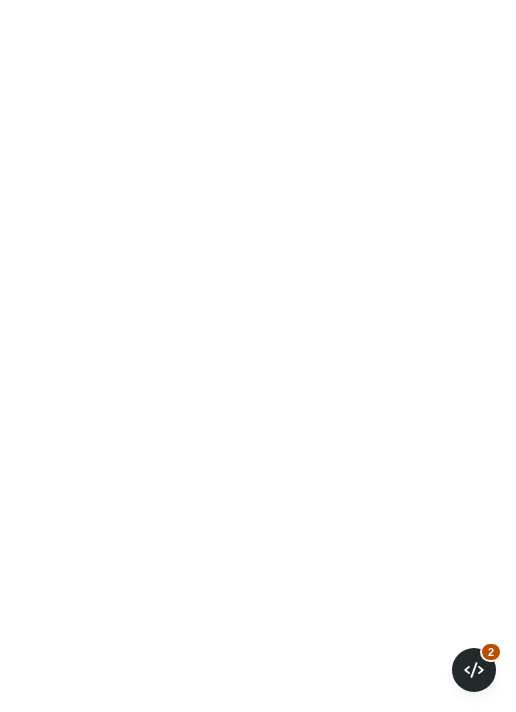
Developer tools › lists the requests with their queries
The width and height of the screenshot is (516, 712).
Click the button named "Developer tools". click: (474, 670)
box: [452, 648, 496, 692]
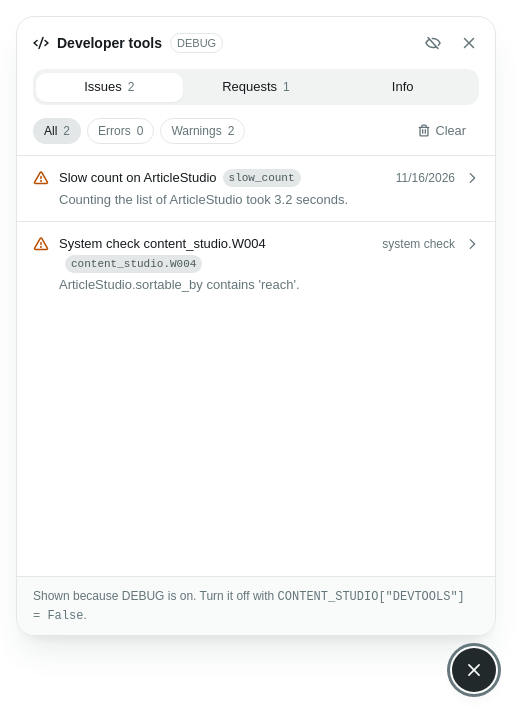
Click the tab "Requests 1". click: (256, 87)
box: [183, 72, 329, 102]
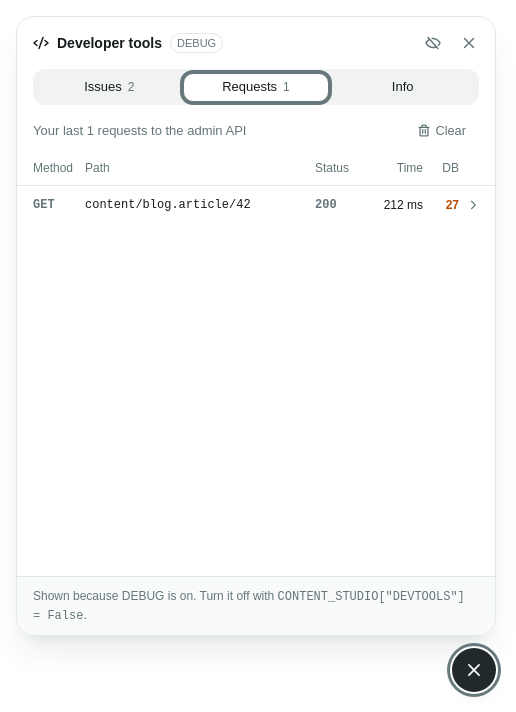
Click the button with aria-label "GET content/blog.article/42, 200, 212 ms, 27 queries". click: (168, 205)
box: [17, 186, 495, 224]
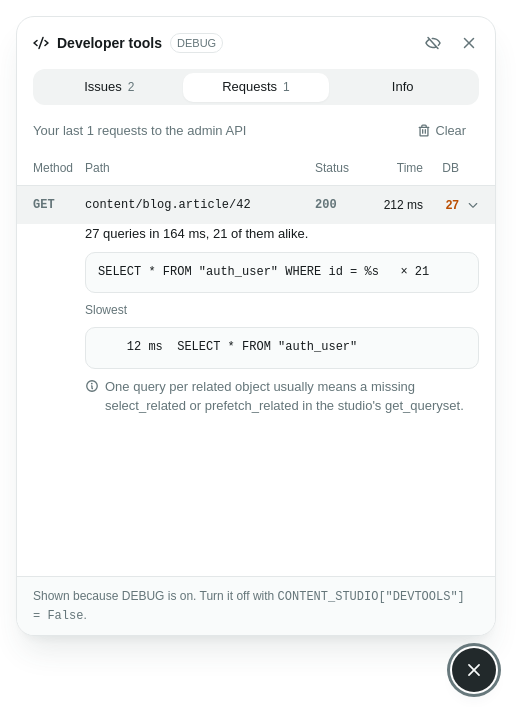
Expected: the text "27 queries in 164 ms, 21 of them alike." is shown, [85, 226, 308, 241]
Expected: the text "select_related or prefetch_related" is shown, [105, 378, 464, 413]
